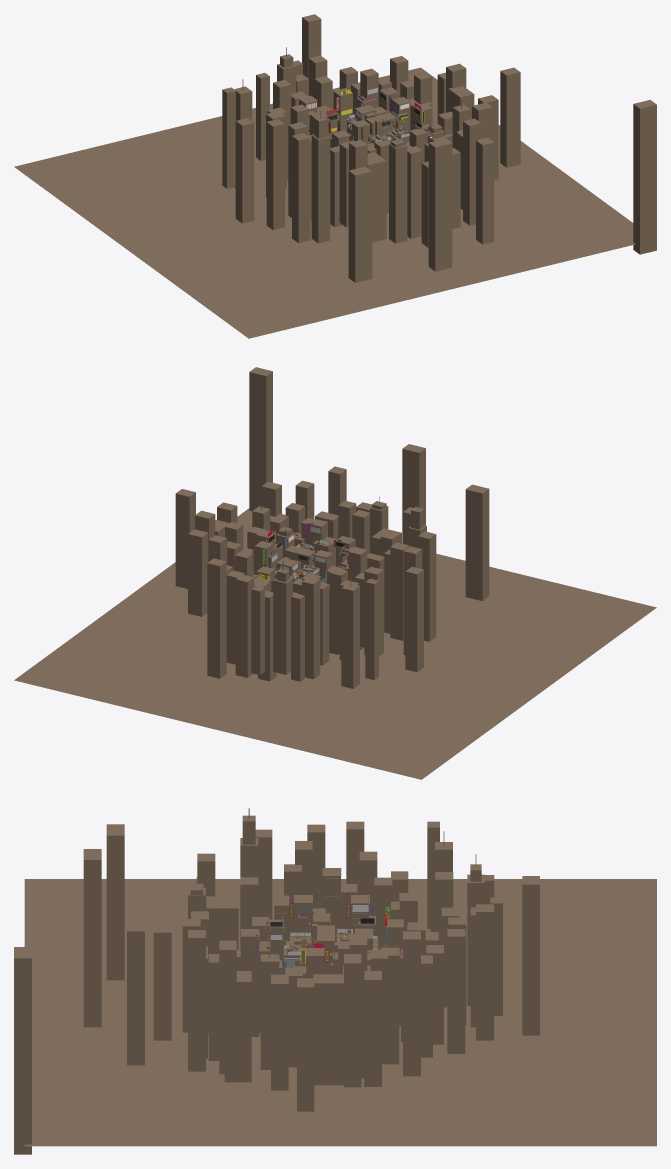
The model's file is Kanji.obj.
3 renders of one model, top to bottom at view 1: azimuth 30°, elevation 25°; view 2: azimuth 150°, elevation 25°; view 3: azimuth 270°, elevation 25°, orthographic. The views are drawn at different scales.
Size of the model in its own units: 5000 by 2009 by 5085.
